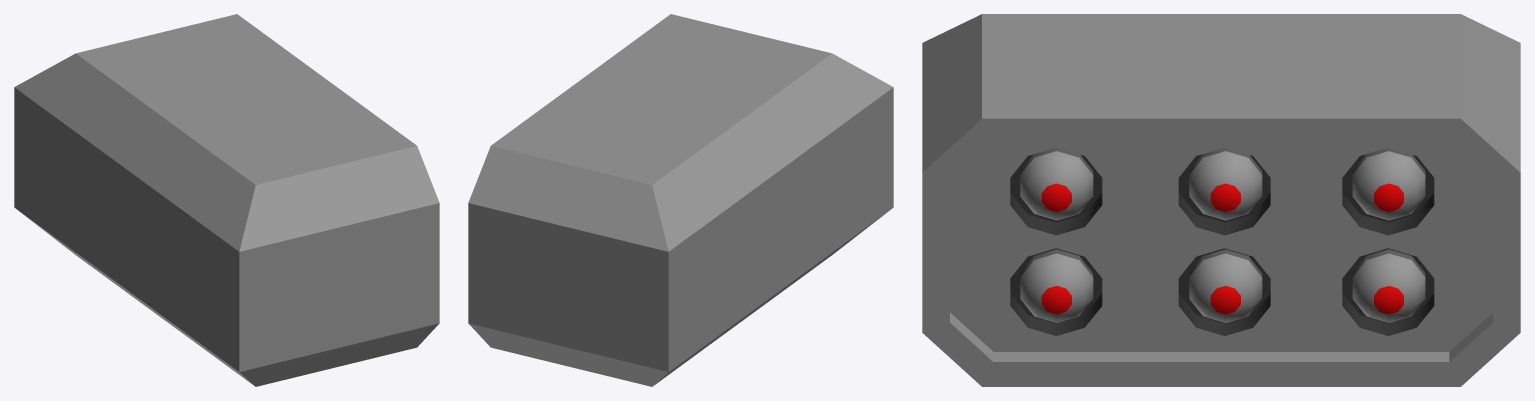
The model's file is RocketLauncher 1.fbx.
The picture shows the model from 3 angles, left to right: view 1: azimuth 30°, elevation 25°; view 2: azimuth 150°, elevation 25°; view 3: azimuth 270°, elevation 25°; orthographic projection. The views are drawn at different scales.
Parts seen in each view (by area): view 1: RocketLauncher; view 2: RocketLauncher; view 3: RocketLauncher.
Part boxes in pixels (box(x1,y1,x2,y2)): RocketLauncher: box(14, 14, 439, 386); RocketLauncher: box(468, 14, 893, 386); RocketLauncher: box(922, 14, 1520, 386).
Bounding box in the file's own units: 16.18 × 15.57 × 31.47.
